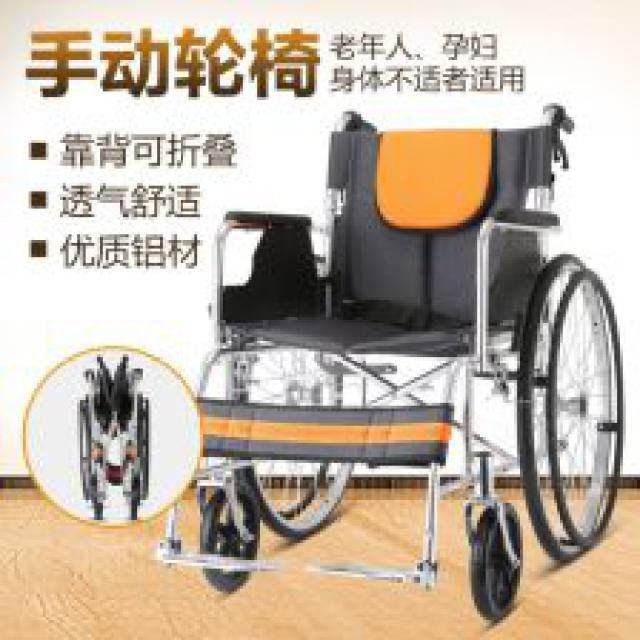wheelchair: (162, 100, 628, 623)
